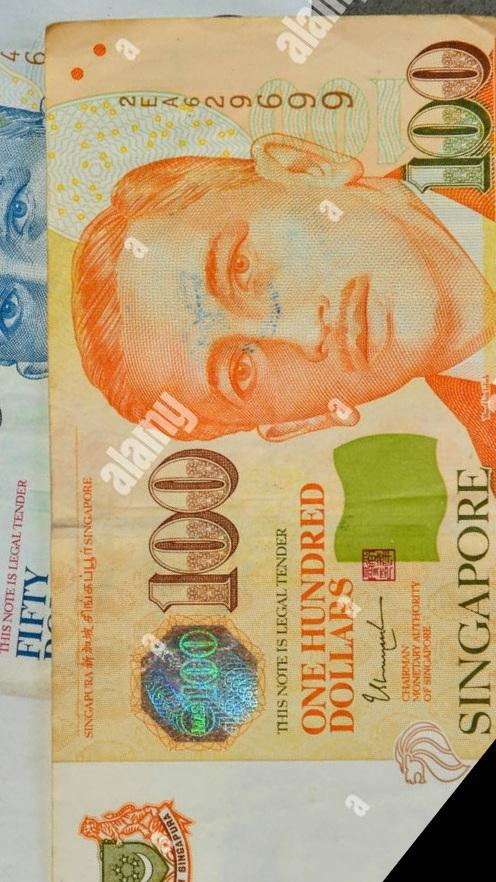100SingaporeDollar: (52, 22, 496, 882)
